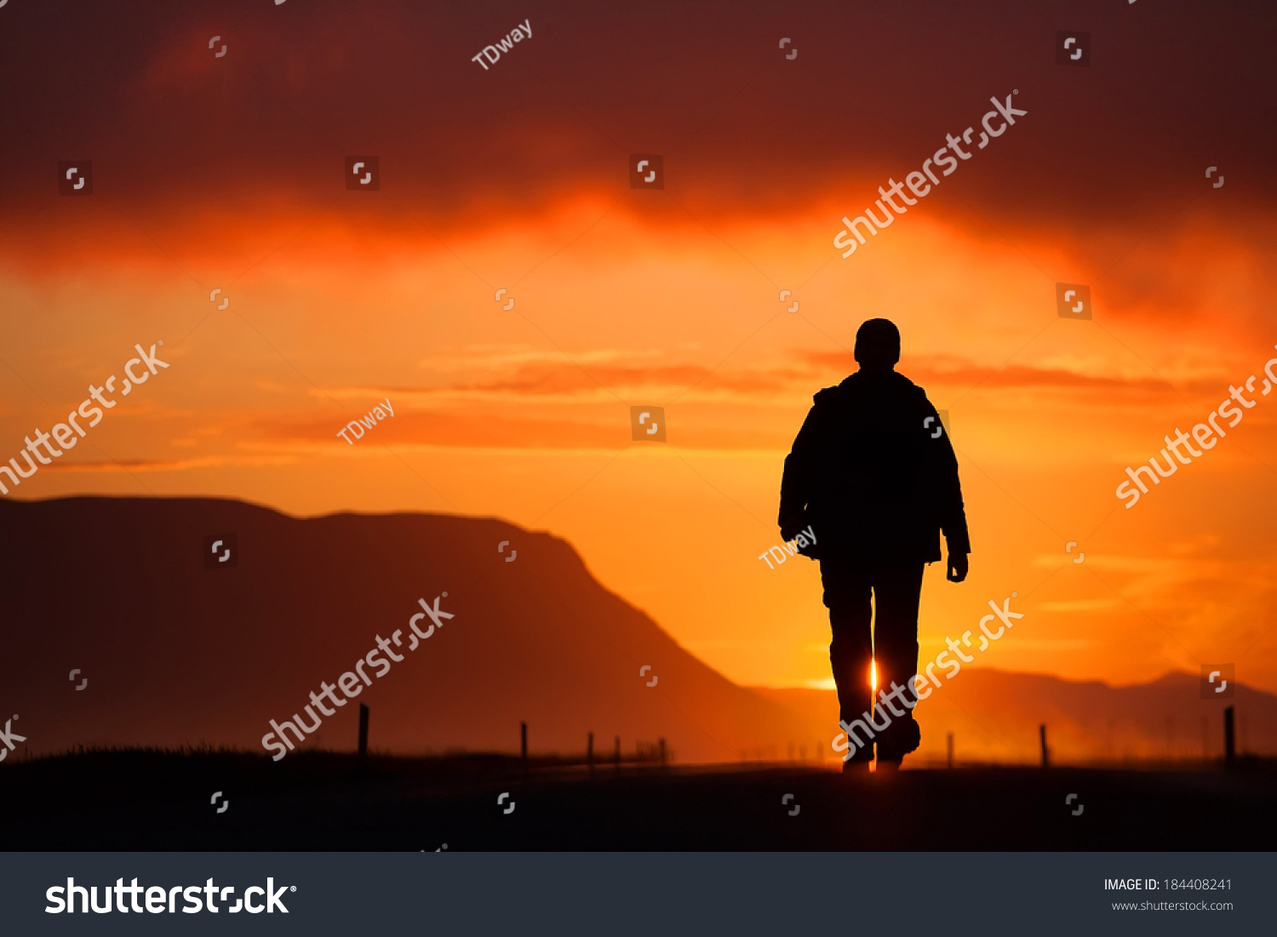Person: (770, 307, 991, 784)
